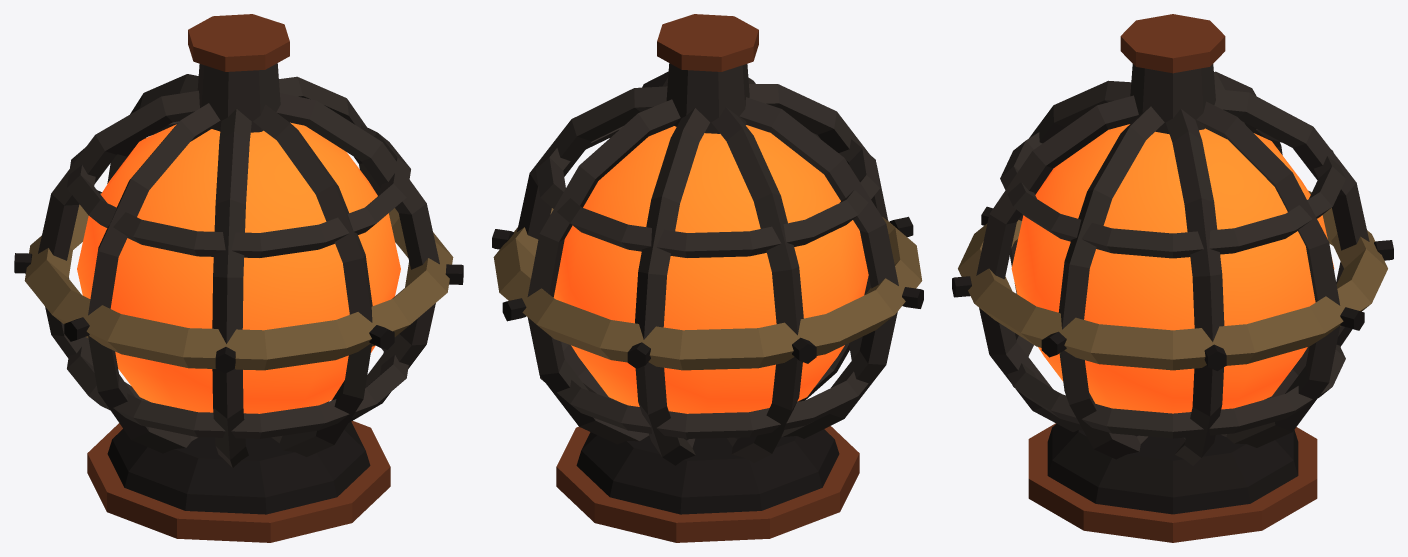
The model's file is furnace_heart.glb.
3 views of the same model, side by side, from view 1: azimuth 30°, elevation 25°; view 2: azimuth 150°, elevation 25°; view 3: azimuth 270°, elevation 25° (orthographic).
Parts seen in each view (by area): view 1: furnace_heart; view 2: furnace_heart; view 3: furnace_heart.
Part boxes in pixels (x1=…): furnace_heart: x1=14, y1=14, x2=463, y2=542; furnace_heart: x1=492, y1=14, x2=923, y2=542; furnace_heart: x1=952, y1=14, x2=1393, y2=542.
Size of the model in its own units: 0.1601 by 0.177 by 0.1601.
